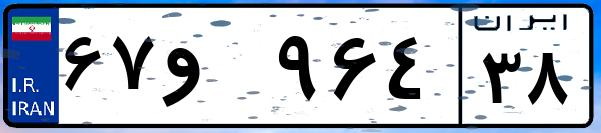3: (475, 38, 525, 113)
4: (385, 28, 445, 110)
6: (330, 28, 385, 110), (57, 26, 110, 100)
7: (110, 28, 158, 98)
8: (525, 38, 570, 115)
9: (270, 28, 330, 110)
و: (158, 20, 270, 120)
